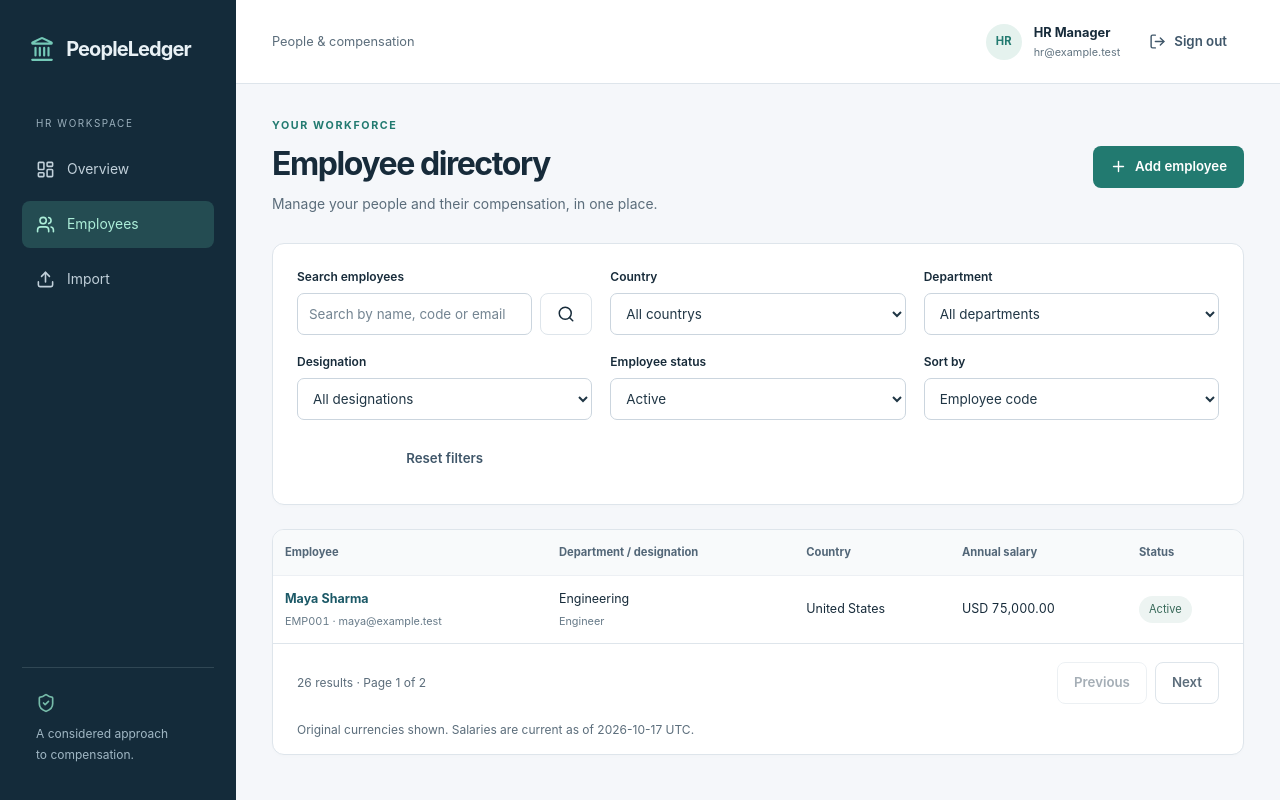
it: authentication and session UI › restores session on refresh and sends CSRF on logout
Expected: the heading "Employee directory" is shown, [272, 144, 550, 184]
Click the button "Sign out" at (1188, 42), box [1132, 20, 1244, 62]
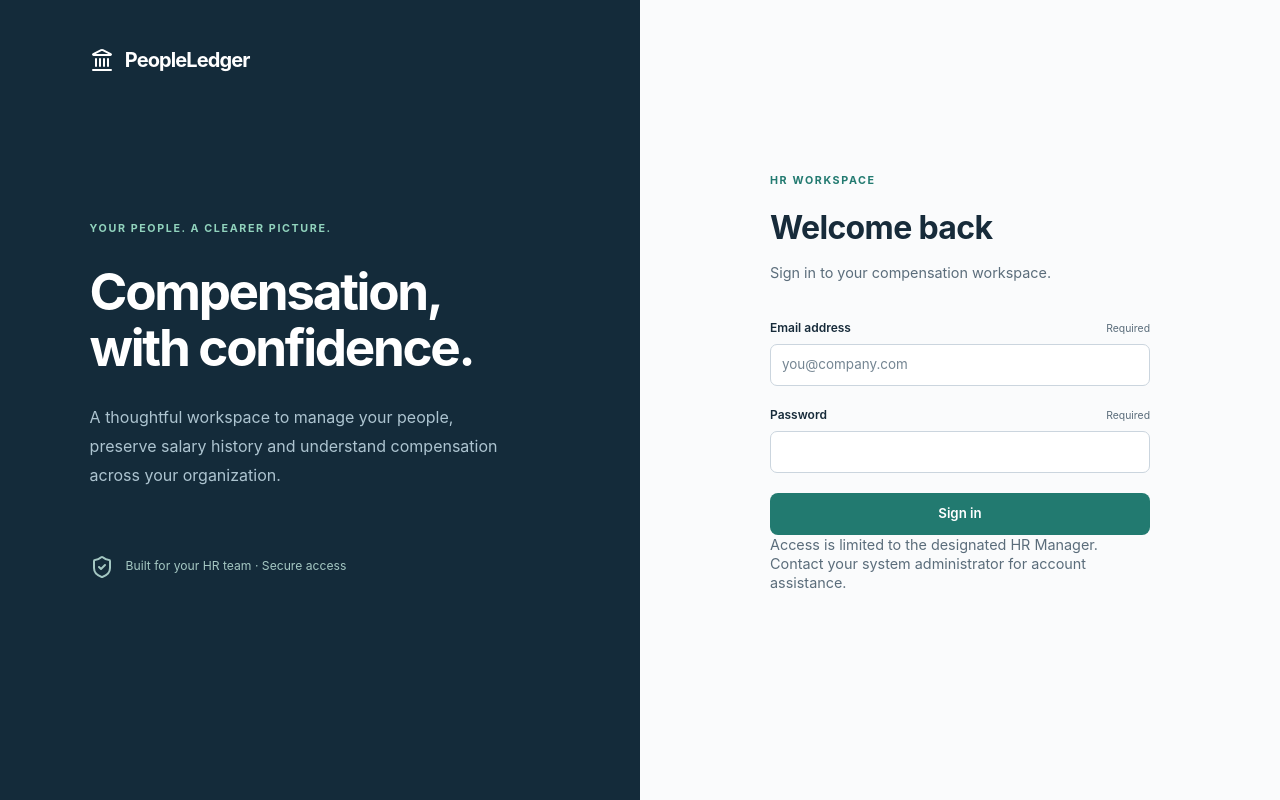
Expected: the heading "Welcome back" is shown, [770, 208, 992, 247]
